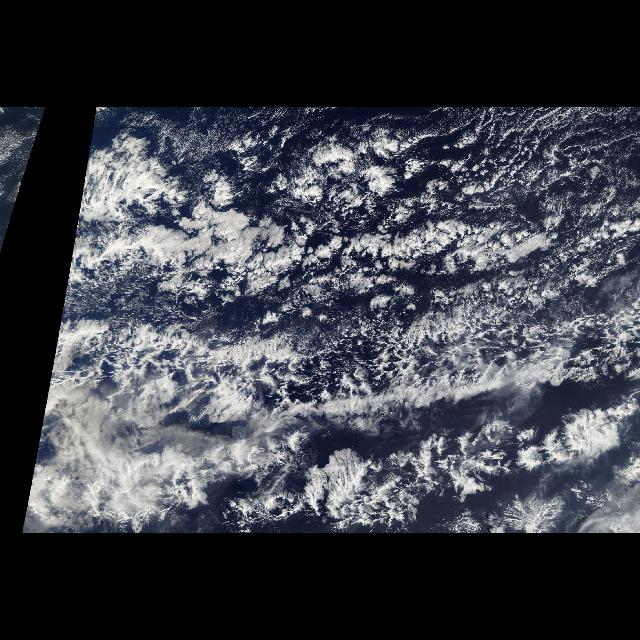Fish: (39, 291, 639, 529)
Flower: (103, 111, 629, 312)
Gravel: (448, 114, 634, 224)
